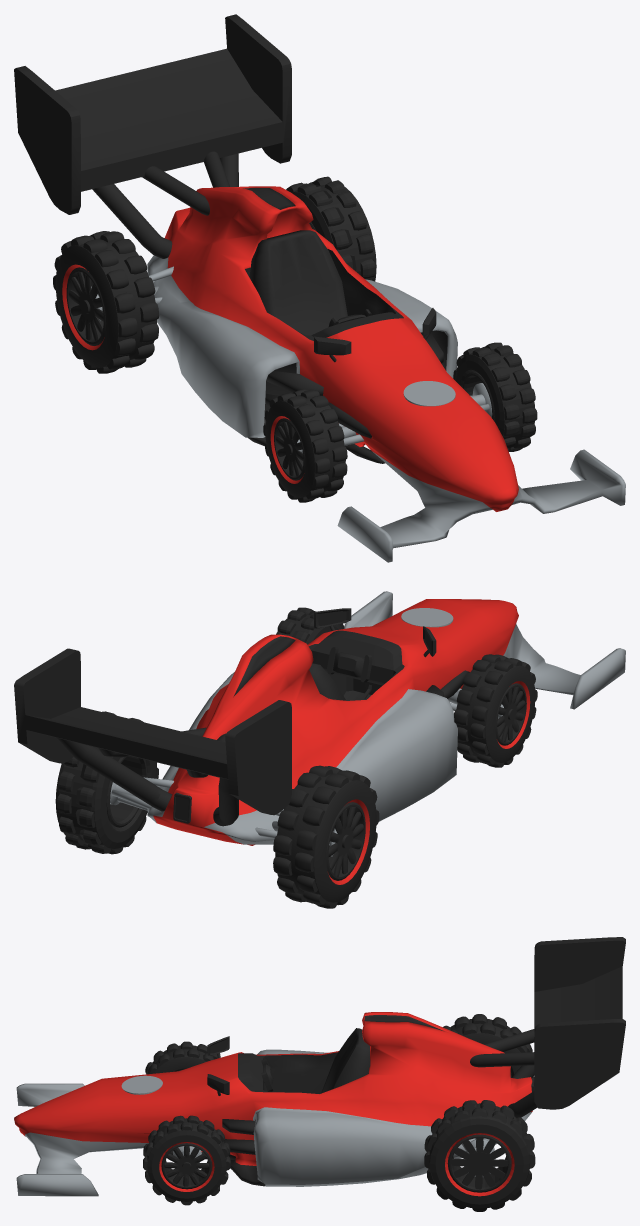
Rendered from Car-7.fbx.
The picture shows the model from 3 angles, top to bottom: view 1: azimuth 30°, elevation 25°; view 2: azimuth 150°, elevation 25°; view 3: azimuth 270°, elevation 25°; orthographic projection. The views are drawn at different scales.
Parts seen in each view (by area): view 1: Car-7; view 2: Car-7; view 3: Car-7.
Part boxes in pixels (x1,y1,x2,y2): Car-7: (14, 14, 625, 562); Car-7: (14, 591, 625, 908); Car-7: (14, 937, 625, 1211).
Size of the model in its own units: 97.02 by 81.31 by 245.
